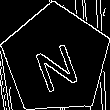N_N: (29, 29, 83, 91)
